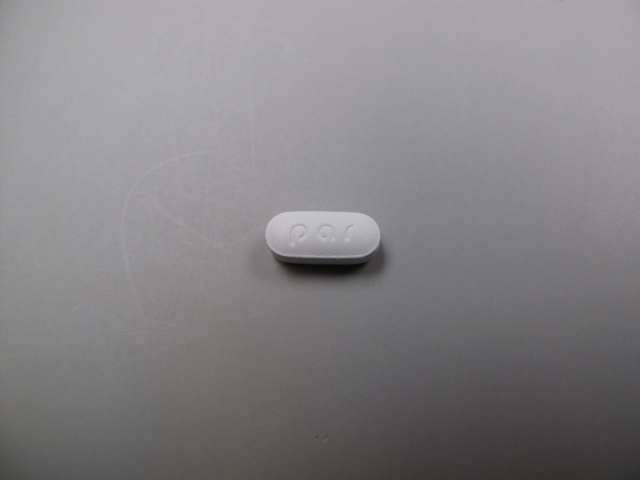P: (288, 219, 310, 248)
a: (315, 221, 339, 243)
r: (339, 221, 358, 246)
